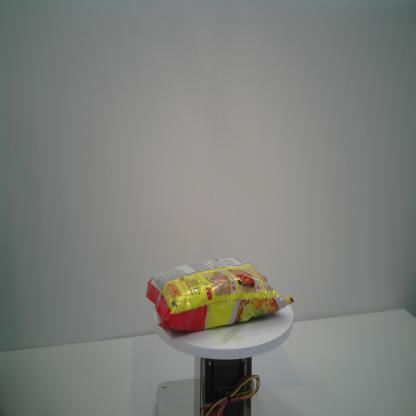Instant Noodles: (145, 255, 296, 334)
